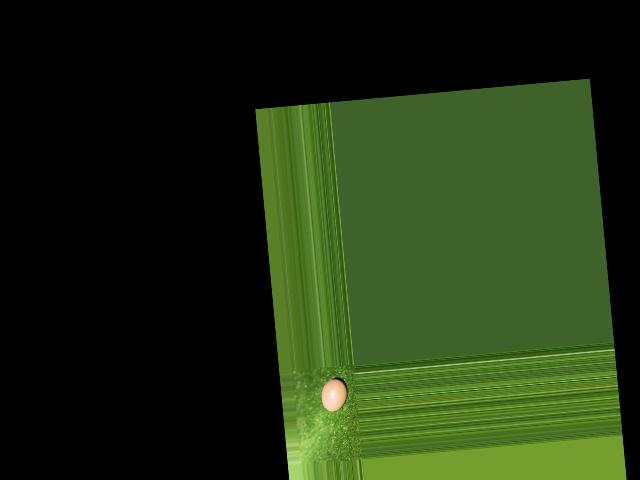egg: (320, 378, 349, 413)
